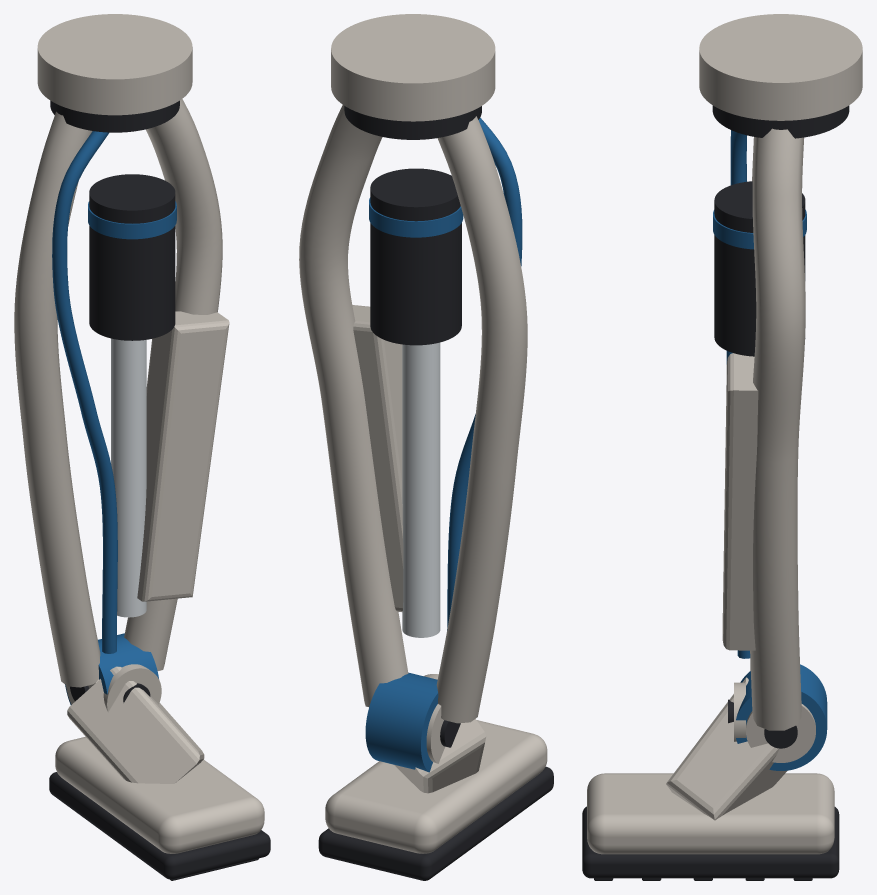
Rendered from anatomy-24.glb.
3 renders of one model, left to right at view 1: azimuth 30°, elevation 25°; view 2: azimuth 150°, elevation 25°; view 3: azimuth 270°, elevation 25°, orthographic. The views are drawn at different scales.
Parts seen in each view (by area): view 1: rails, foot, guards, knee, drive, rod, wiring, sole, ankle, ankle-plate; view 2: rails, knee, foot, drive, rod, guards, ankle, sole, wiring; view 3: rails, foot, knee, guards, sole, drive, ankle, wiring, ankle-plate.
Part boxes in pixels (left/top/right/bottom): rails: left=14, top=99, right=222, bottom=687; foot: left=55, top=666, right=264, bottom=853; guards: left=137, top=311, right=229, bottom=601; knee: left=37, top=14, right=192, bottom=132; drive: left=88, top=174, right=176, bottom=340; rod: left=111, top=338, right=146, bottom=617; wiring: left=52, top=131, right=117, bottom=653; sole: left=49, top=772, right=270, bottom=880; ankle: left=65, top=633, right=158, bottom=704; ankle-plate: left=103, top=664, right=161, bottom=711; rails: left=299, top=105, right=527, bottom=723; knee: left=331, top=14, right=495, bottom=139; foot: left=325, top=719, right=547, bottom=853; drive: left=369, top=168, right=463, bottom=345; rod: left=402, top=342, right=440, bottom=637; guards: left=352, top=305, right=403, bottom=611; ankle: left=365, top=672, right=460, bottom=772; sole: left=318, top=766, right=553, bottom=880; wiring: left=447, top=117, right=522, bottom=630; rails: left=750, top=128, right=805, bottom=730; foot: left=587, top=677, right=834, bottom=854; knee: left=699, top=14, right=862, bottom=138; guards: left=722, top=353, right=758, bottom=650; sole: left=582, top=806, right=839, bottom=880; drive: left=713, top=181, right=806, bottom=356; ankle: left=736, top=664, right=827, bottom=770; wiring: left=726, top=130, right=750, bottom=658; ankle-plate: left=728, top=682, right=745, bottom=741.
Size of the model in its own units: 0.6752 by 2.4 by 0.7585.
